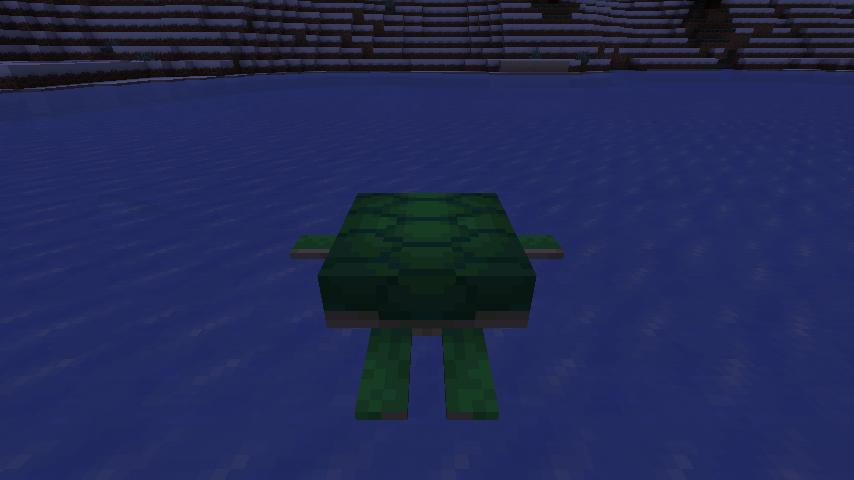turtle: (289, 184, 569, 430)
